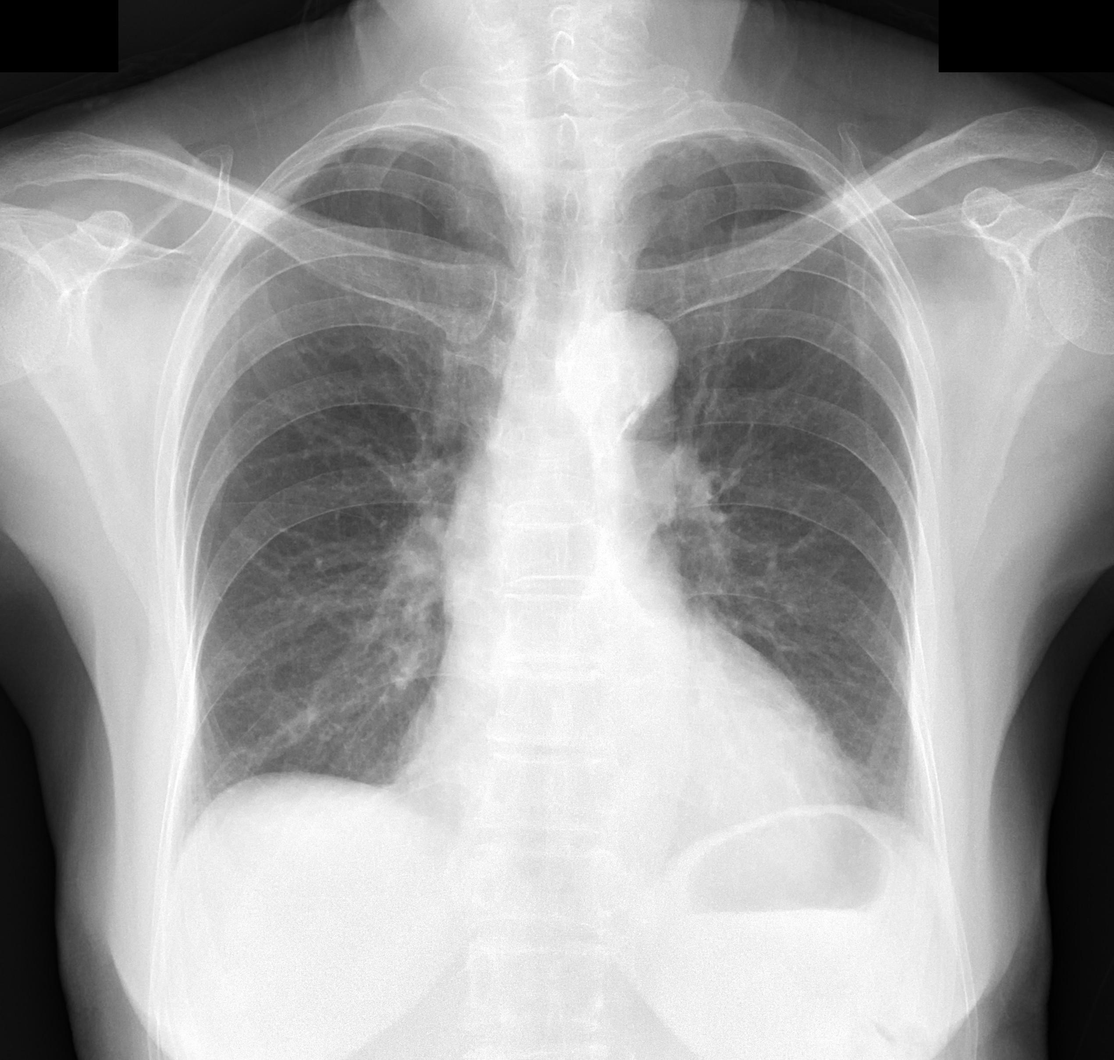Aortic enlargement: (560, 315, 676, 431)
